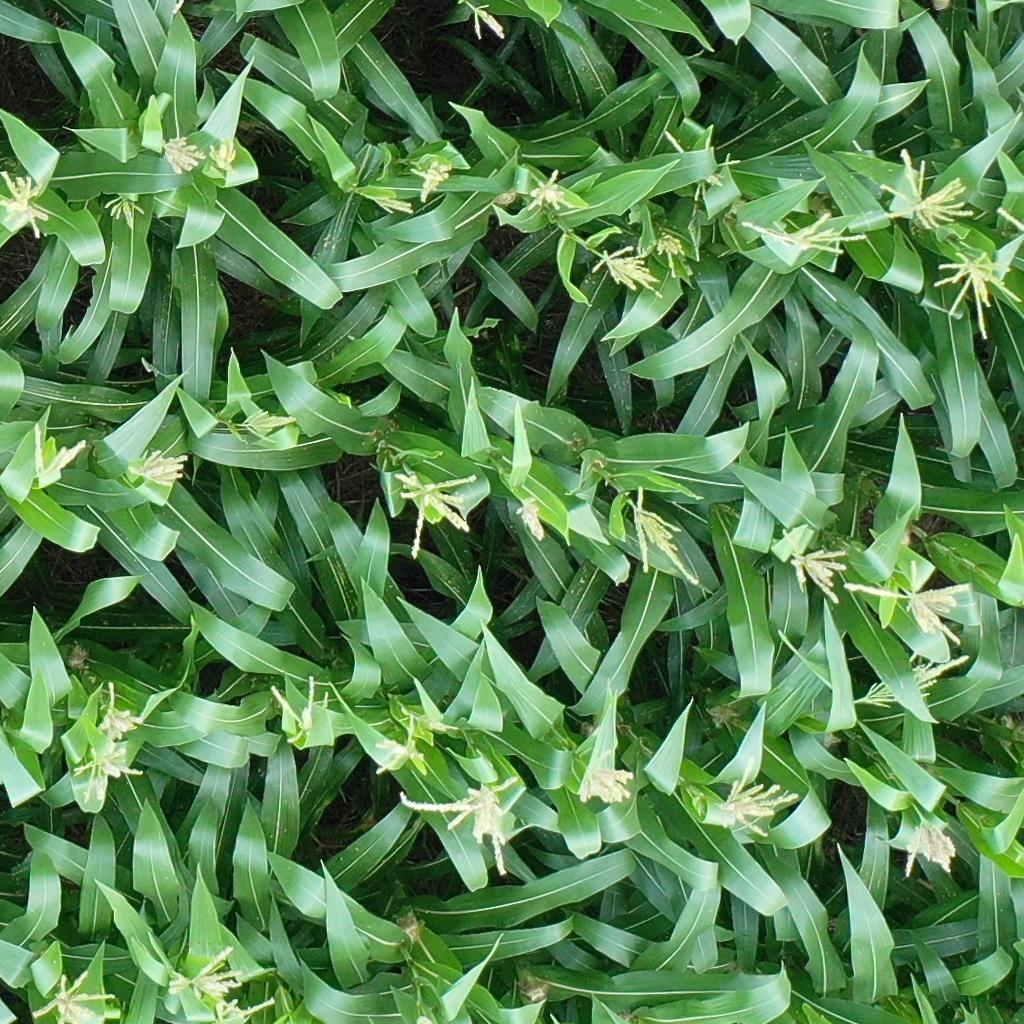Tassel: (398, 778, 529, 878), (846, 556, 974, 645), (879, 143, 977, 233), (620, 484, 703, 587), (392, 468, 483, 561), (936, 248, 1023, 342), (715, 755, 801, 838), (739, 204, 868, 259), (862, 652, 972, 716), (662, 124, 742, 200), (780, 530, 845, 608), (71, 744, 149, 806), (32, 968, 115, 1024), (25, 419, 90, 487), (267, 675, 330, 743), (590, 244, 664, 301), (169, 945, 243, 1000), (903, 817, 959, 883), (1, 169, 51, 241), (571, 749, 635, 803), (125, 446, 191, 494), (92, 682, 139, 741), (368, 733, 427, 774), (239, 408, 300, 445), (410, 155, 455, 204), (472, 4, 514, 49), (510, 492, 549, 540), (208, 997, 277, 1024), (159, 137, 206, 176), (104, 190, 149, 230), (654, 230, 687, 279), (527, 171, 566, 212), (208, 136, 238, 173), (369, 192, 415, 216), (426, 713, 460, 739)
